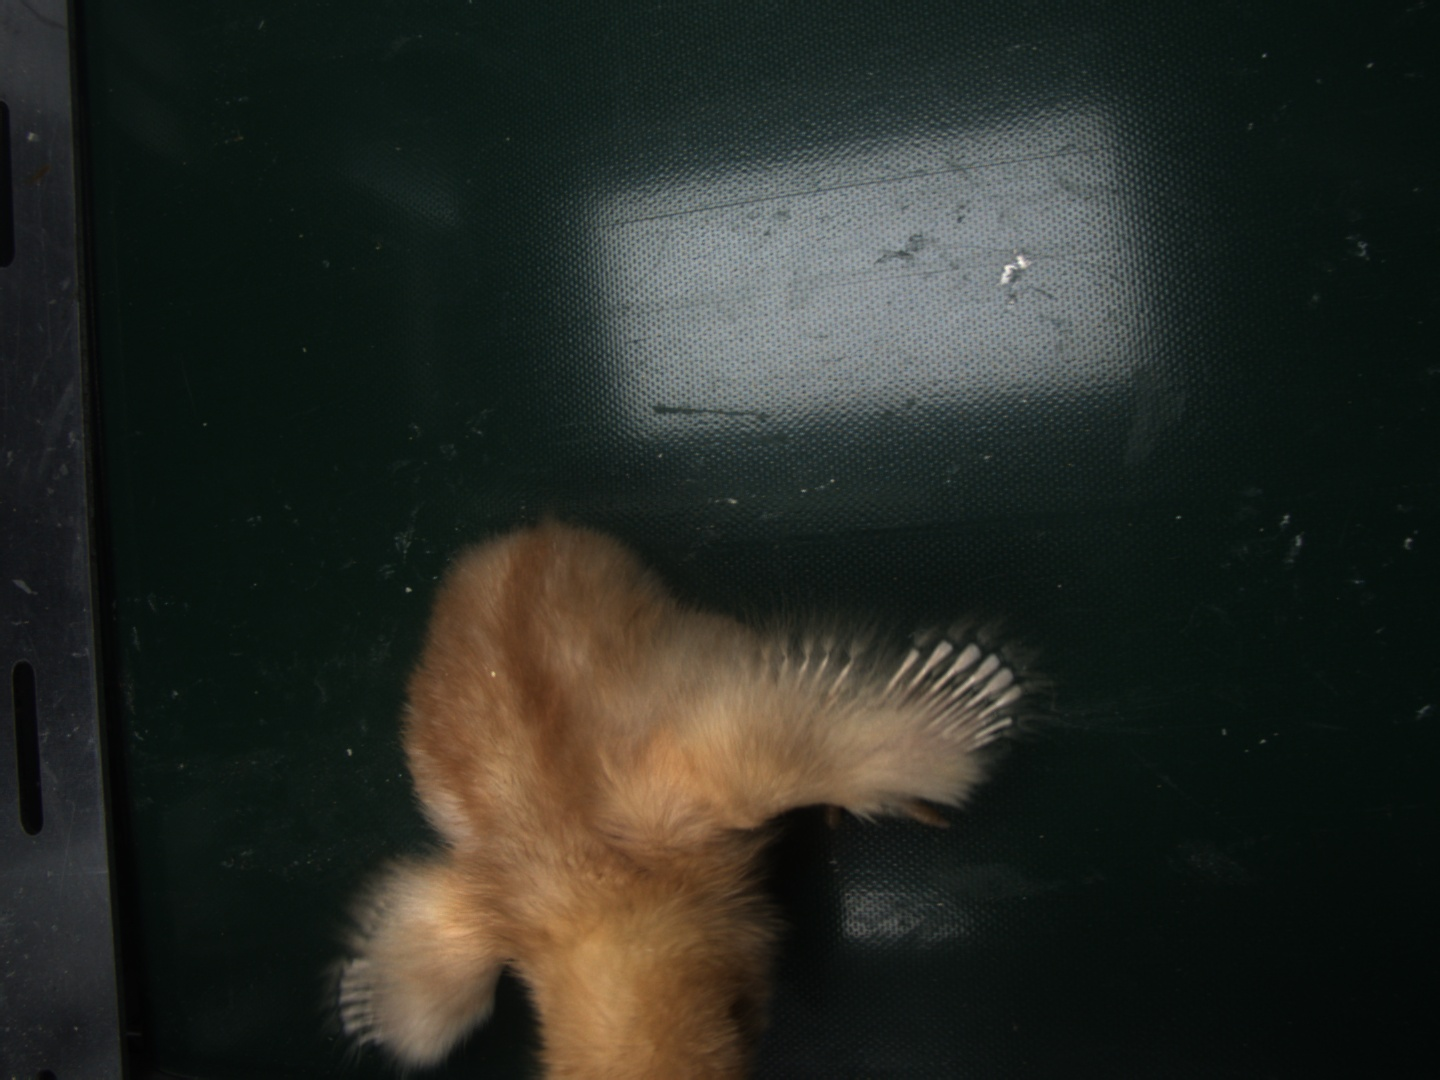female: (882, 640, 1017, 749)
